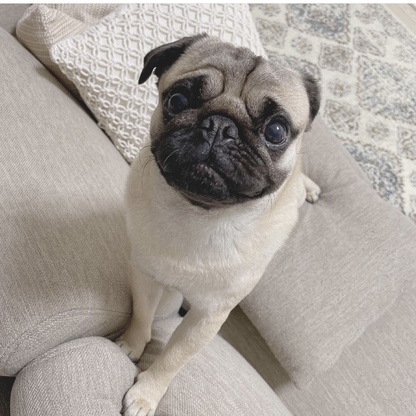Pug: (109, 30, 328, 416)
